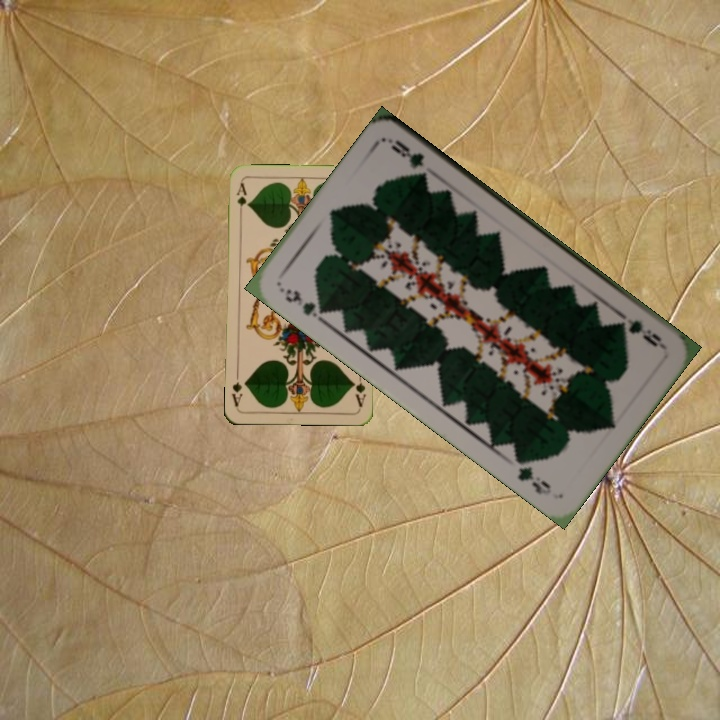G9: (275, 283, 331, 325), (613, 310, 668, 352)
GA: (349, 369, 368, 409), (232, 179, 249, 219)
